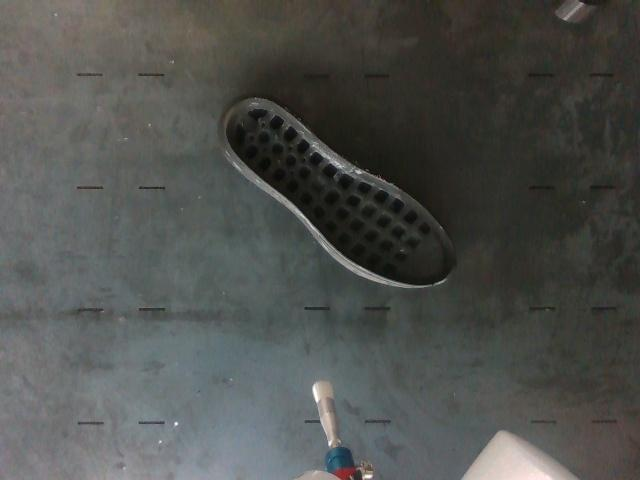shoes: (225, 99, 457, 287)
